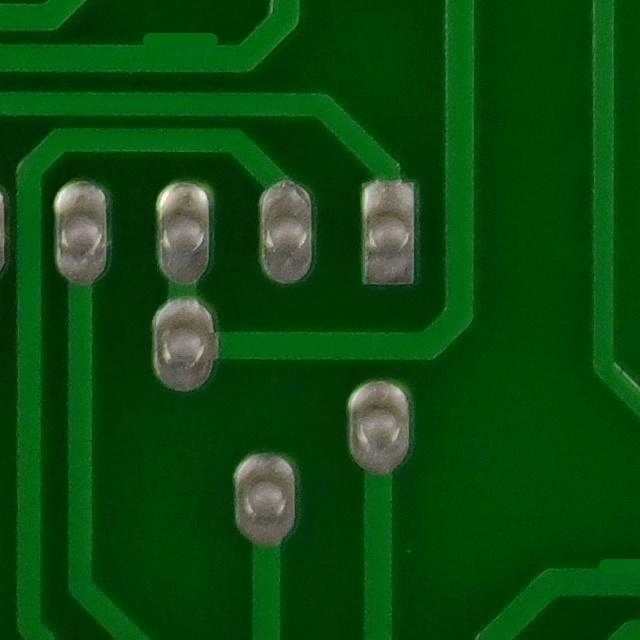spur: (124, 19, 236, 82)
